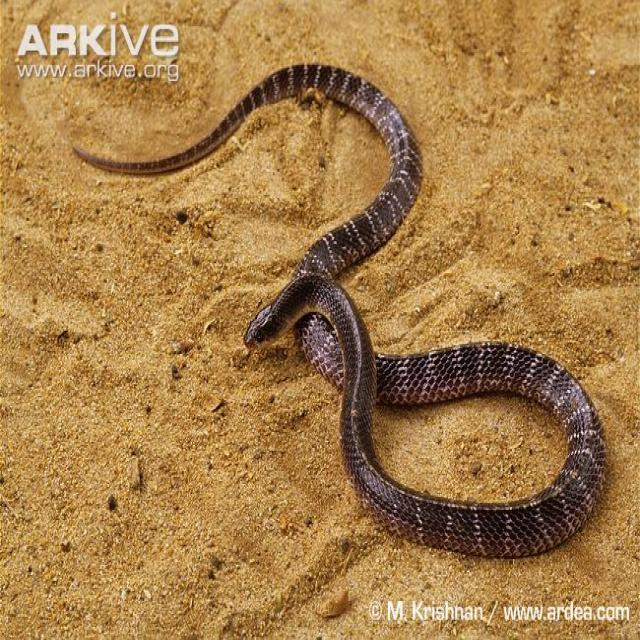Snake: (70, 61, 606, 560)
